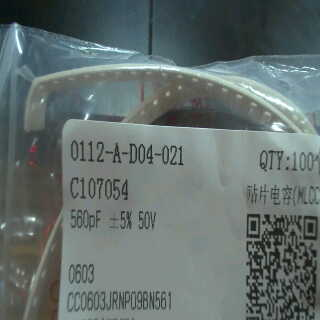560pF: (64, 204, 101, 240)
